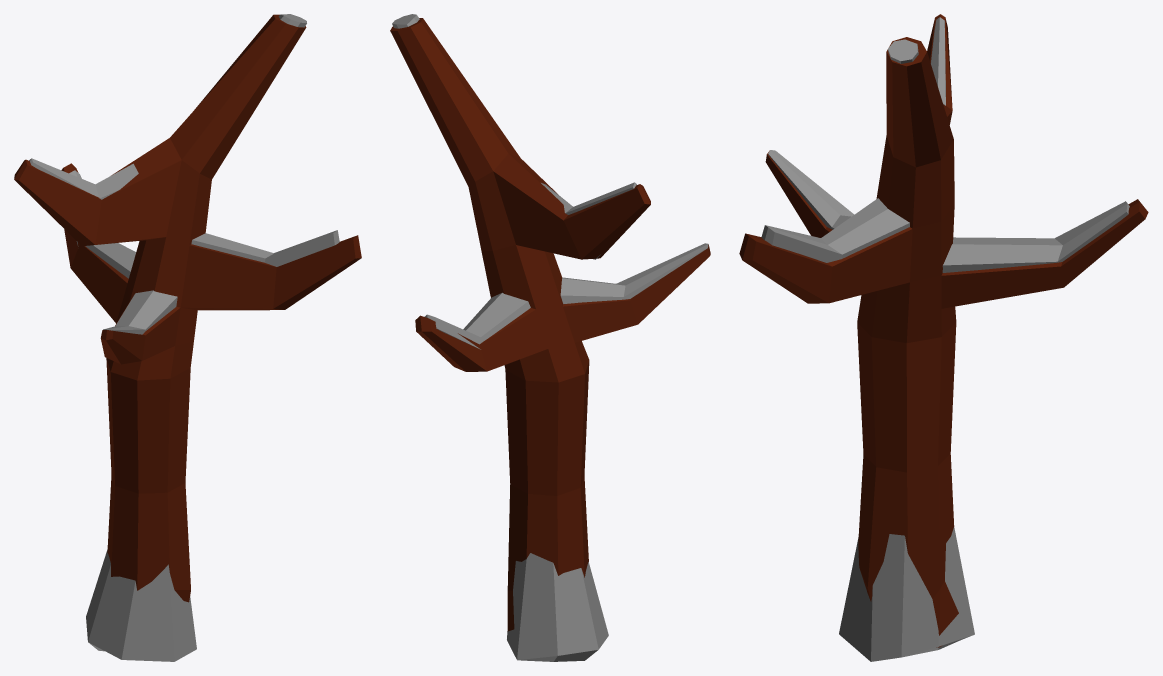
File: tronconevado.obj
The picture shows the model from 3 angles, left to right: view 1: azimuth 30°, elevation 25°; view 2: azimuth 150°, elevation 25°; view 3: azimuth 270°, elevation 25°; orthographic projection. The views are drawn at different scales.
Parts seen in each view (by area): view 1: Cylinder; view 2: Cylinder; view 3: Cylinder.
Part boxes in pixels (x1,y1,x2,y2): Cylinder: [14, 14, 361, 661]; Cylinder: [390, 14, 710, 661]; Cylinder: [739, 14, 1148, 661].
Bounding box in the file's own units: 2.71 × 5.62 × 3.07.
